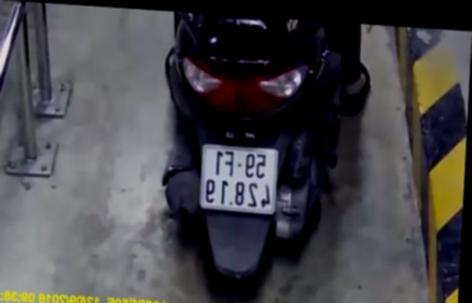License_Plate: (191, 135, 289, 222)
